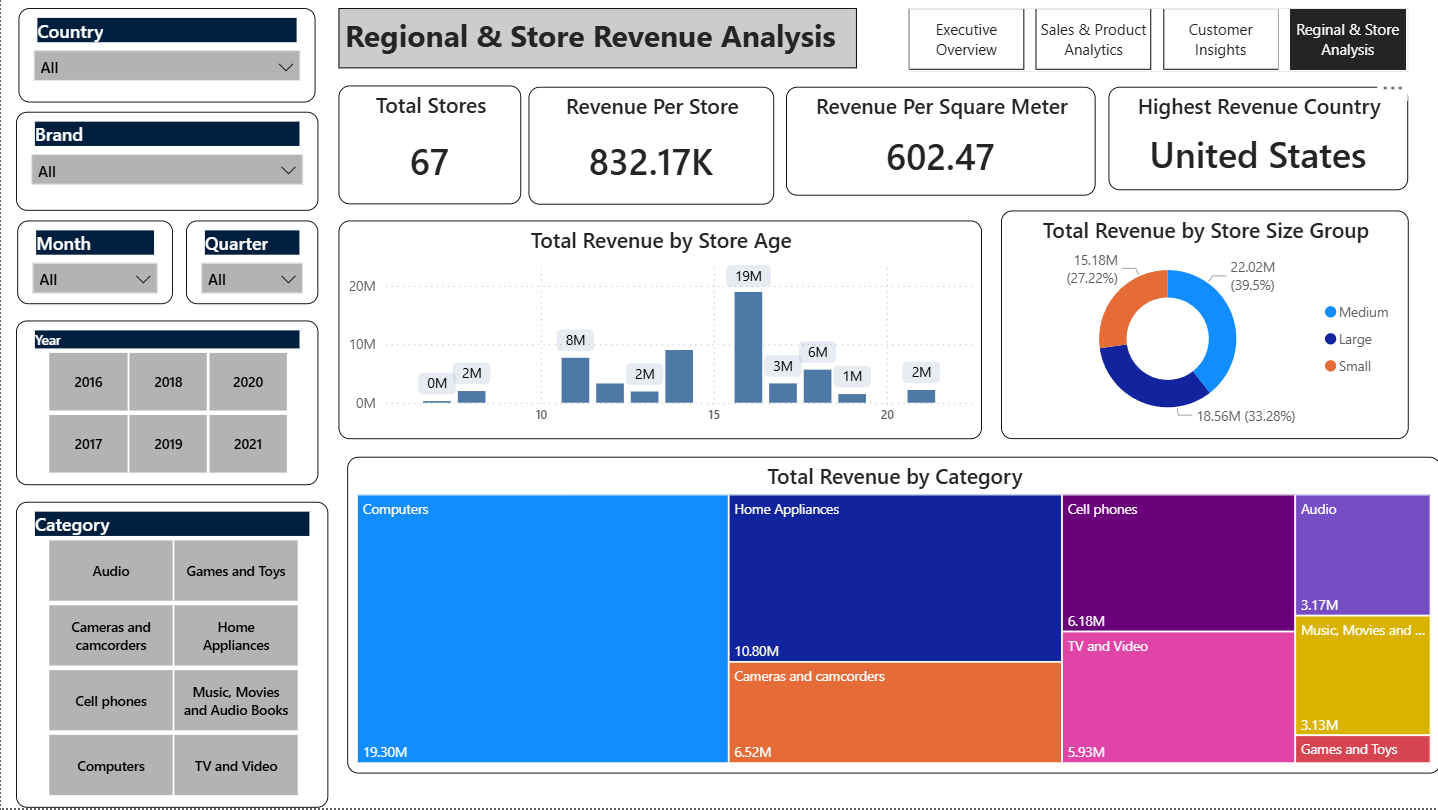

Layout of this report page (visuals, bound fields, positions):
{"tool":"powerbi","page":{"name":"Reginal & Store Analysis","canvas":[1280,720],"ordinal":3},"visuals":[{"type":"slicer","fields":{"Values":["Customers.Country"]},"box":[15.1,9.3,264,83.7],"z":0},{"type":"cardVisual","title":"Total Stores","fields":{"Data":["Customers.Total Stores"]},"box":[300,77.9,162.8,105.8],"z":1000},{"type":"cardVisual","title":"Revenue Per Square Meter ","fields":{"Data":["Customers.Revenue per Square Meter"]},"box":[697.7,79.1,275.6,96.5],"z":2000},{"type":"cardVisual","title":"Revenue Per Store","fields":{"Data":["Customers.Revenue per Store"]},"box":[468.6,79.1,218.6,104.7],"z":3000},{"type":"slicer","fields":{"Values":["Products.Category"]},"box":[12.8,447.7,277.9,272.1],"z":4000},{"type":"slicer","fields":{"Values":["Products.Brand"]},"box":[12.8,101.2,268.6,88.4],"z":5000},{"type":"slicer","fields":{"Values":["DateTable.Month Name"]},"box":[14,197.7,138.4,74.4],"z":6000},{"type":"slicer","fields":{"Values":["DateTable.Year"]},"box":[12.8,287.2,268.6,146.5],"z":7000},{"type":"slicer","fields":{"Values":["DateTable.Quarter"]},"box":[164,197.7,117.4,74.4],"z":8000},{"type":"textbox","box":[300,9.3,460.5,53.5],"z":9000},{"type":"treemap","fields":{"Values":["Customers.Total Revenue"],"Group":["Products.Category"]},"box":[308.1,408.1,972.1,281.4],"z":10000},{"type":"clusteredColumnChart","fields":{"Category":["Stores.Store Age"],"Y":["Customers.Total Revenue"]},"box":[300,197.7,572.1,194.2],"z":11000},{"type":"cardVisual","title":"Highest Revenue Country","fields":{"Data":["Customers.Highest Revenue Country"]},"box":[984.9,79.1,266.3,91.9],"z":12000},{"type":"donutChart","fields":{"Y":["Customers.Total Revenue"],"Category":["Stores.Store Size Group"]},"box":[888.4,188.4,362.8,203.5],"z":13000},{"type":"pageNavigator","box":[807,9.3,444.2,55.8],"z":14000}]}

Visuals, with their boxes in screenshot pixels (x1, y1, x2, y2), scaled from the page's 1280x720 canvas onto the 1438x810 screenshot:
slicer - Customers.Country: Rect(17, 10, 314, 105)
"Total Stores" cardVisual: Rect(337, 88, 520, 207)
"Revenue Per Square Meter " cardVisual: Rect(784, 89, 1093, 198)
"Revenue Per Store" cardVisual: Rect(526, 89, 772, 207)
slicer - Products.Category: Rect(14, 504, 327, 809)
slicer - Products.Brand: Rect(14, 114, 316, 213)
slicer - DateTable.Month Name: Rect(16, 222, 171, 306)
slicer - DateTable.Year: Rect(14, 323, 316, 488)
slicer - DateTable.Quarter: Rect(184, 222, 316, 306)
textbox: Rect(337, 10, 854, 71)
treemap - Customers.Total Revenue x Products.Category: Rect(346, 459, 1437, 776)
clusteredColumnChart - Stores.Store Age x Customers.Total Revenue: Rect(337, 222, 980, 441)
"Highest Revenue Country" cardVisual: Rect(1106, 89, 1406, 192)
donutChart - Customers.Total Revenue x Stores.Store Size Group: Rect(998, 212, 1406, 441)
pageNavigator: Rect(907, 10, 1406, 73)
